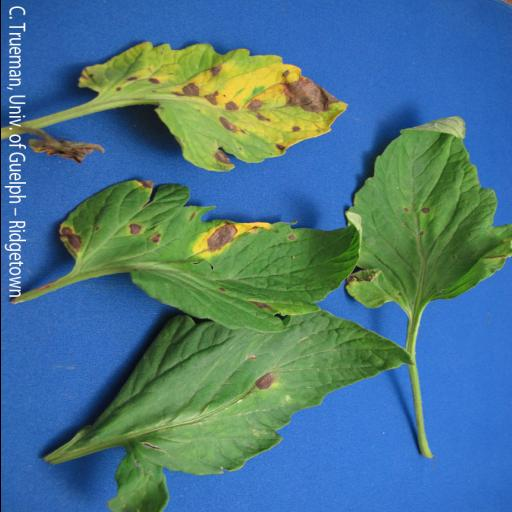Early Blight: (37, 312, 414, 503), (54, 178, 362, 326), (76, 36, 355, 168), (343, 112, 512, 308)
